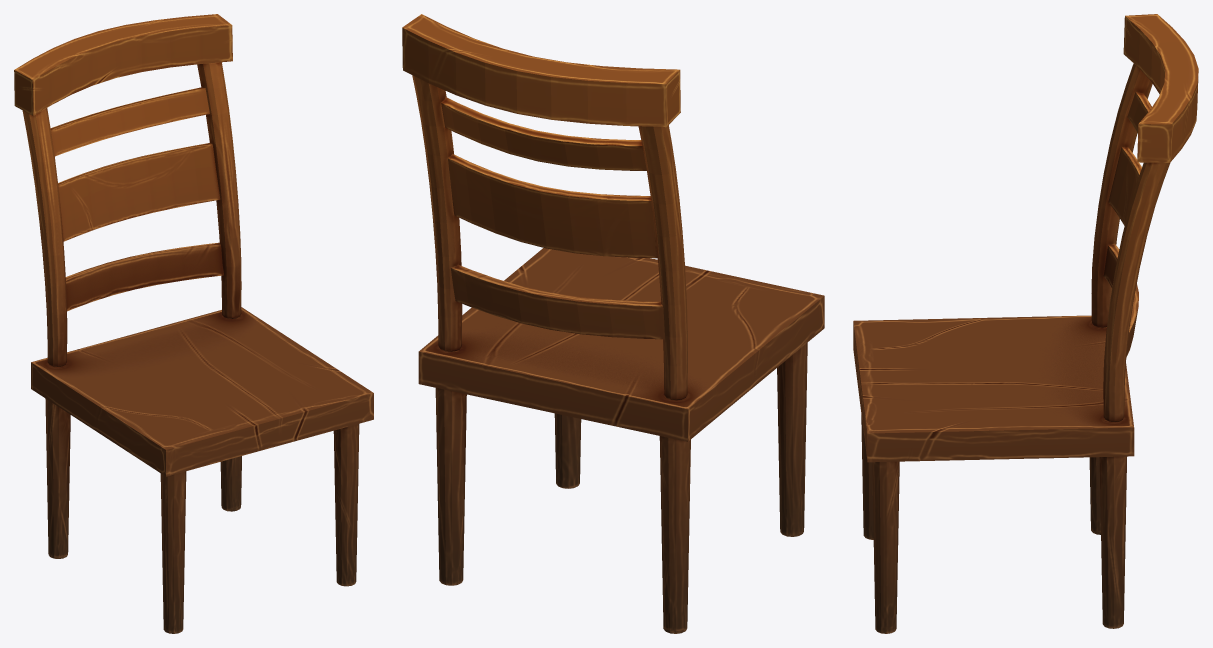
Rendered from chair_export.fbx.
3 views of the same model, side by side, from view 1: azimuth 30°, elevation 25°; view 2: azimuth 150°, elevation 25°; view 3: azimuth 270°, elevation 25° (orthographic). The views are drawn at different scales.
Parts seen in each view (by area): view 1: chair_low; view 2: chair_low; view 3: chair_low.
Boxes of the visible parts, left/top/right/bottom form: chair_low: left=14, top=14, right=373, bottom=633; chair_low: left=402, top=14, right=824, bottom=633; chair_low: left=853, top=14, right=1198, bottom=633.
Size of the model in its own units: 1.99 by 3.96 by 2.44.
